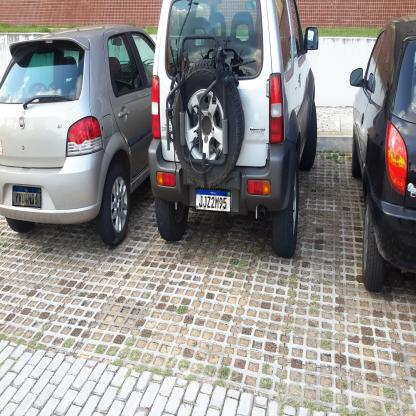PlacaM: (195, 188, 231, 213), (12, 186, 41, 208)
